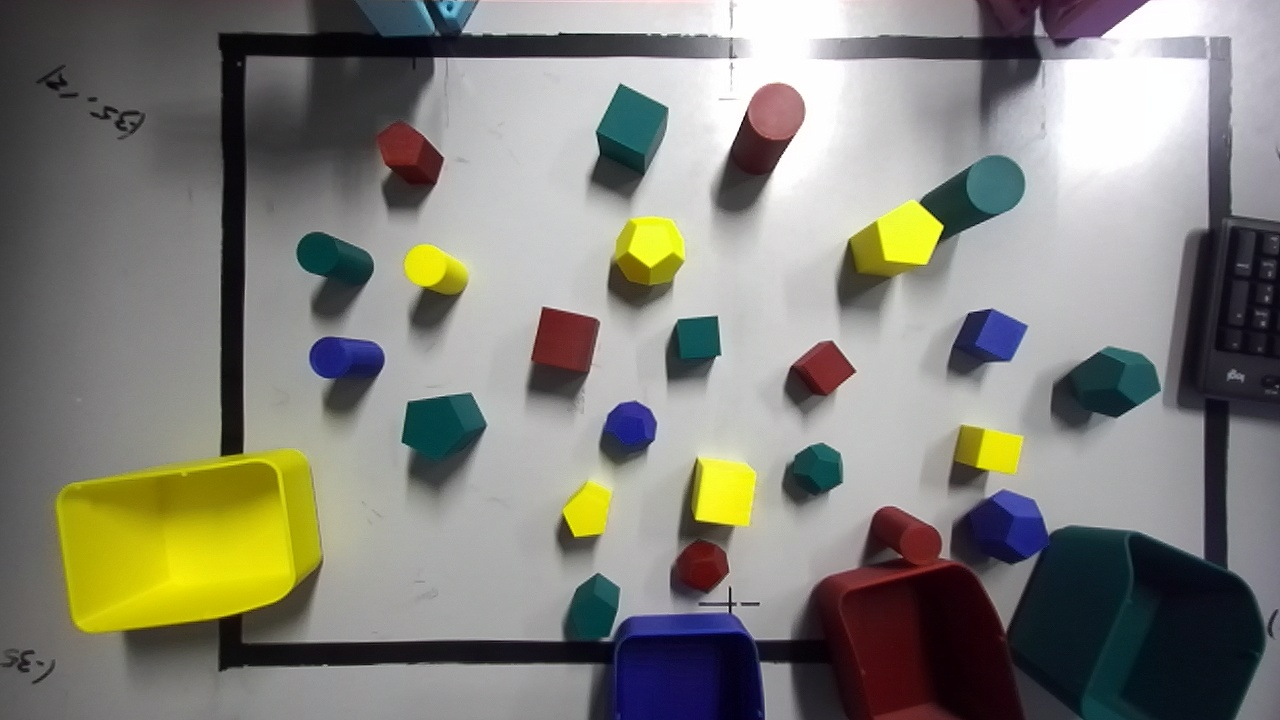bin: (1008, 526, 1264, 719), (55, 449, 320, 632), (811, 560, 1022, 719), (613, 615, 763, 719)
cube: (596, 84, 667, 174), (531, 307, 599, 372), (691, 457, 756, 525), (952, 309, 1027, 361), (790, 340, 855, 395), (953, 424, 1022, 474), (675, 316, 721, 360)
cylinder: (919, 155, 1024, 238), (730, 83, 804, 174), (870, 506, 941, 564), (296, 231, 373, 284), (403, 244, 468, 294), (309, 337, 384, 378)
dodecahedron: (1068, 346, 1160, 417), (965, 490, 1048, 563), (613, 217, 684, 284), (672, 540, 729, 592), (787, 443, 842, 493), (603, 401, 656, 449)
hexagonal: (849, 200, 943, 276), (402, 392, 486, 458), (376, 121, 443, 184), (566, 573, 619, 640), (562, 480, 611, 537)
